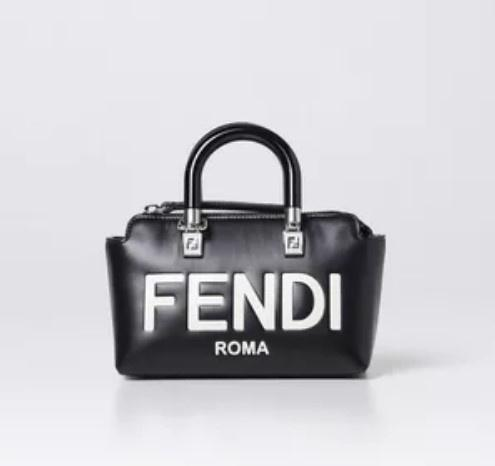FENDI: (145, 271, 343, 332)
